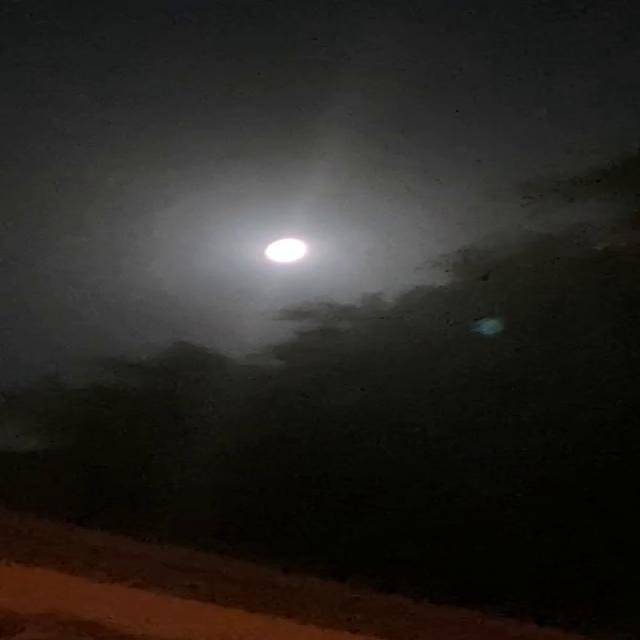moon: (265, 239, 299, 272)
